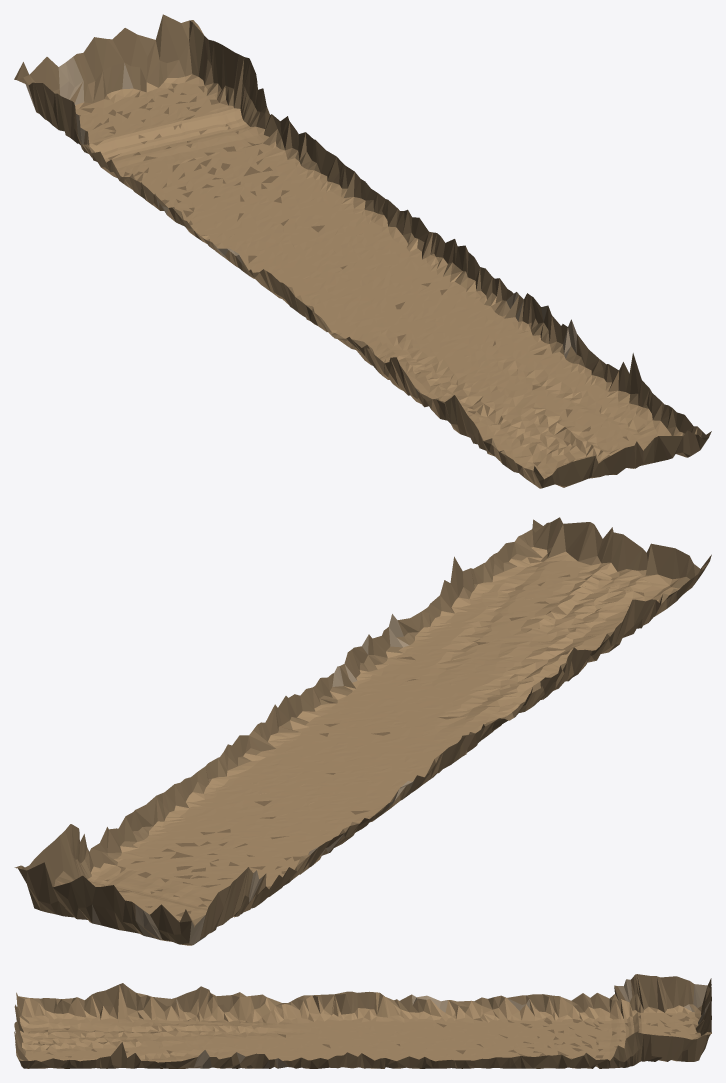
The model's file is SM_Ground.fbx.
The picture shows the model from 3 angles, top to bottom: view 1: azimuth 30°, elevation 25°; view 2: azimuth 150°, elevation 25°; view 3: azimuth 270°, elevation 25°; orthographic projection. The views are drawn at different scales.
Visible parts, largest first — view 1: SM_Ground; view 2: SM_Ground; view 3: SM_Ground.
Boxes of the visible parts, box(x1,y1,x2,y2) form: SM_Ground: box(14, 14, 711, 488); SM_Ground: box(14, 517, 711, 945); SM_Ground: box(14, 974, 711, 1068).
Size of the model in its own units: 20199 by 7833 by 100542.
